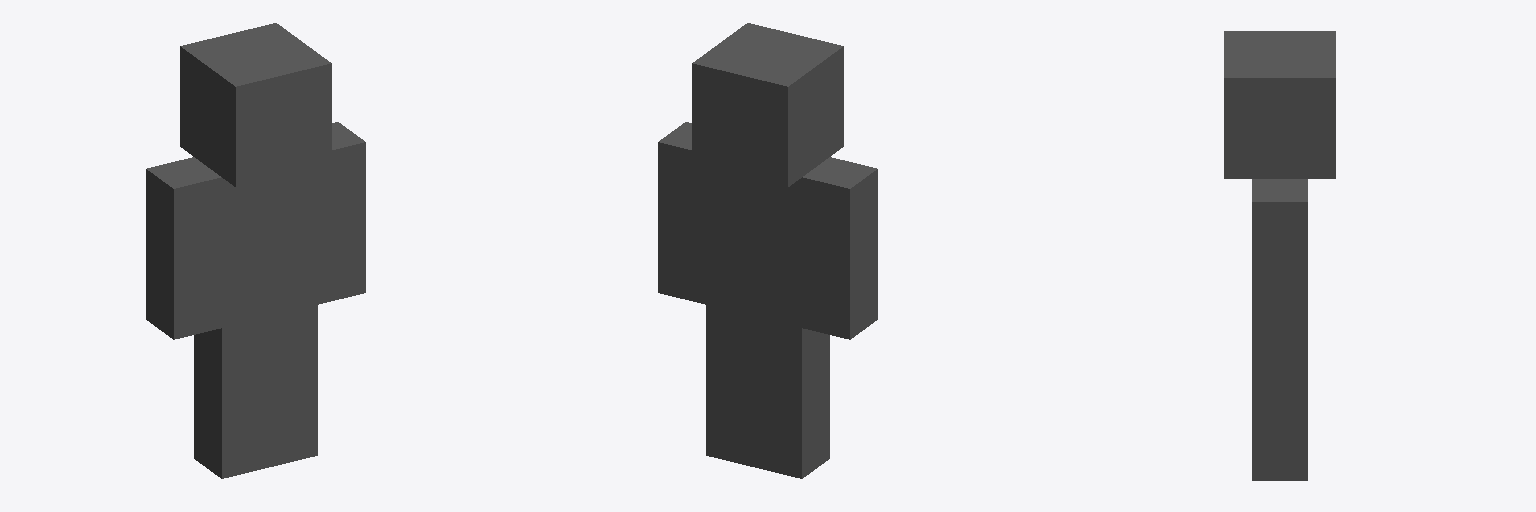
The model's file is adventurer.obj.
The picture shows the model from 3 angles: view 1: azimuth 30°, elevation 25°; view 2: azimuth 150°, elevation 25°; view 3: azimuth 270°, elevation 25°; orthographic projection.
Parts seen in each view (by area): view 1: Head1, Body1, ArmRight1, LegRight1, ArmLeft1, LegLeft1; view 2: Head1, Body1, ArmRight1, LegRight1, ArmLeft1, LegLeft1; view 3: Head1, ArmLeft1, LegLeft1.
Part boxes in pixels (bbox=[...]): Head1: bbox=[180, 23, 331, 186]; Body1: bbox=[222, 167, 317, 327]; ArmRight1: bbox=[146, 157, 221, 339]; LegRight1: bbox=[194, 317, 269, 478]; ArmLeft1: bbox=[318, 122, 365, 304]; LegLeft1: bbox=[270, 305, 317, 466]; Head1: bbox=[692, 23, 843, 186]; Body1: bbox=[706, 167, 801, 327]; ArmRight1: bbox=[802, 157, 877, 339]; LegRight1: bbox=[754, 317, 829, 478]; ArmLeft1: bbox=[658, 122, 705, 304]; LegLeft1: bbox=[706, 305, 753, 466]; Head1: bbox=[1224, 31, 1335, 178]; ArmLeft1: bbox=[1252, 179, 1307, 352]; LegLeft1: bbox=[1252, 353, 1307, 480].
Bounding box in the file's own units: 8 × 16 × 4.